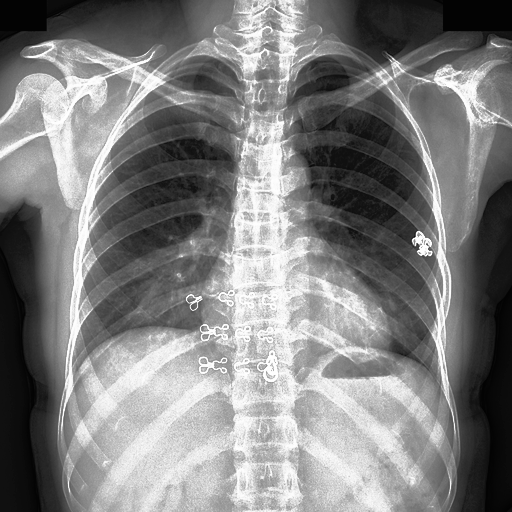Calcification: (312, 55, 335, 61)
Nodule/Mass: (199, 275, 395, 359)
Pleural thickening: (143, 268, 198, 322)
